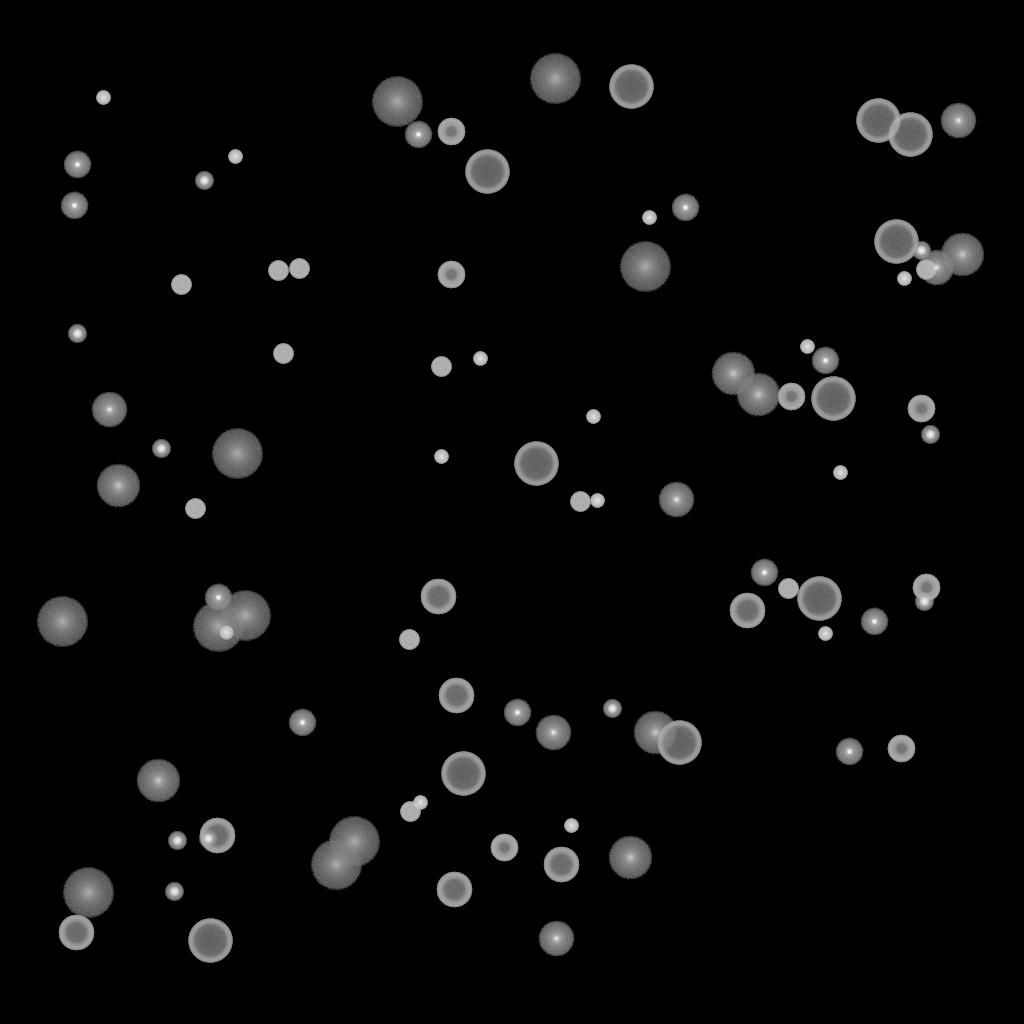depth:-10: (503, 699, 531, 727), (404, 121, 432, 149), (671, 194, 699, 222), (750, 559, 778, 587), (63, 151, 91, 179), (60, 192, 88, 220), (811, 347, 839, 375), (835, 738, 863, 766), (860, 608, 888, 636), (204, 584, 232, 612), (288, 709, 316, 737)
depth:-20: (921, 426, 939, 444), (915, 593, 933, 611), (165, 883, 183, 901), (168, 832, 186, 850), (152, 440, 170, 458), (199, 830, 217, 848), (195, 172, 213, 190), (603, 700, 621, 718), (912, 242, 930, 260), (68, 325, 86, 343)
depth:-30: (818, 627, 832, 641), (413, 796, 427, 810), (473, 352, 487, 366), (219, 626, 233, 640), (642, 211, 656, 225), (434, 450, 448, 464), (590, 494, 604, 508), (96, 91, 110, 105), (833, 466, 847, 480), (800, 340, 814, 354), (586, 410, 600, 424), (228, 150, 242, 164), (564, 819, 578, 833), (897, 272, 911, 286)
depth:-40: (273, 344, 293, 364), (916, 260, 936, 280), (570, 492, 590, 512), (778, 579, 798, 599), (171, 275, 191, 295), (268, 261, 288, 281), (185, 499, 205, 519), (289, 259, 309, 279), (400, 802, 420, 822), (399, 630, 419, 650), (431, 357, 451, 377)
depth:-50: (437, 261, 465, 289), (437, 118, 465, 146), (912, 574, 940, 602), (490, 834, 518, 862), (887, 735, 915, 763), (777, 383, 805, 411), (907, 395, 935, 423)
depth:-60: (199, 818, 235, 854), (438, 678, 474, 714), (58, 915, 94, 951), (729, 593, 765, 629), (436, 872, 472, 908), (543, 847, 579, 883), (420, 579, 456, 615)
depth:-70: (874, 220, 918, 264), (888, 113, 932, 157), (657, 721, 701, 765), (609, 65, 653, 109), (465, 150, 509, 194), (188, 919, 232, 963), (811, 377, 855, 421), (797, 577, 841, 621), (856, 99, 900, 143), (514, 442, 558, 486), (441, 752, 485, 796)
depth:0: (940, 103, 976, 139), (658, 482, 694, 518), (538, 921, 574, 957), (91, 392, 127, 428), (918, 250, 954, 286), (535, 715, 571, 751)
depth:10: (608, 836, 652, 880), (136, 759, 180, 803), (633, 711, 677, 755), (736, 373, 780, 417), (96, 464, 140, 508), (711, 352, 755, 396), (940, 233, 984, 277)
depth:20: (371, 77, 423, 127), (529, 54, 581, 104), (211, 429, 263, 479), (62, 868, 114, 918), (219, 591, 271, 641), (310, 840, 362, 890), (36, 597, 88, 647), (619, 242, 671, 292), (328, 817, 380, 867), (192, 602, 244, 652)
